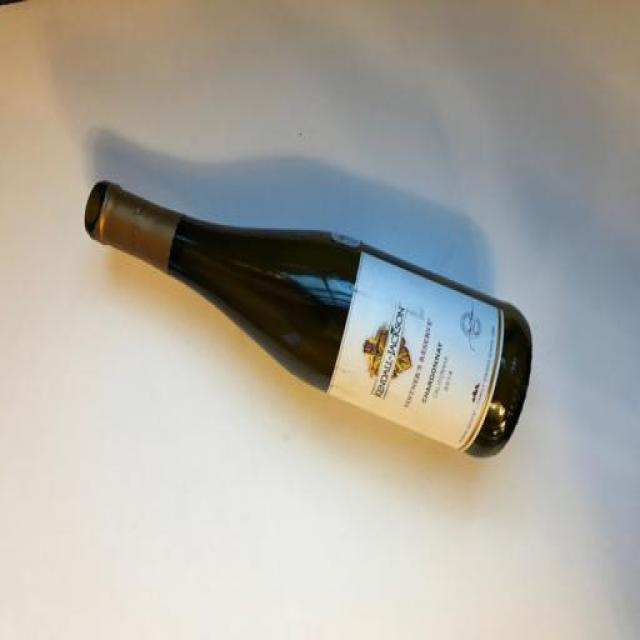glass: (47, 127, 570, 523)
